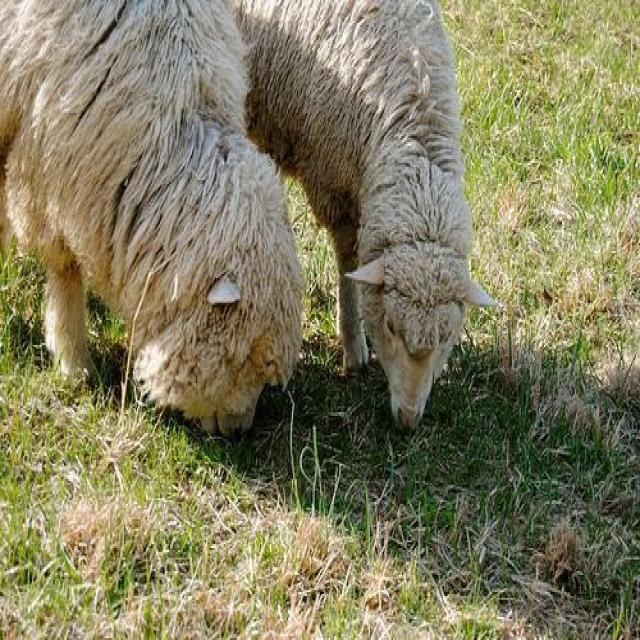Sheep: (0, 0, 303, 437), (229, 2, 502, 435)
